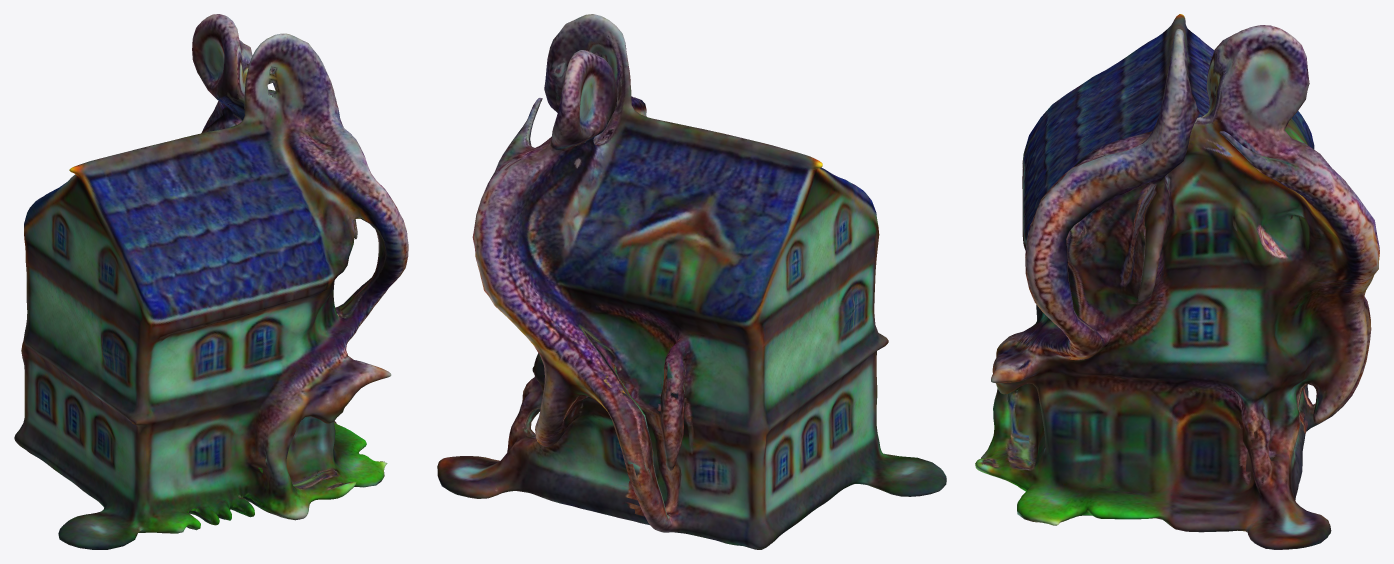
The model's file is db3620ee50dd_d1cdd01f8e5f_a_octopus_solarpunk.glb.
The picture shows the model from 3 angles, left to right: view 1: azimuth 30°, elevation 25°; view 2: azimuth 150°, elevation 25°; view 3: azimuth 270°, elevation 25°; orthographic projection. The views are drawn at different scales.
Visible parts, largest first — view 1: mesh; view 2: mesh; view 3: mesh.
Boxes of the visible parts, x1,y1,x2,y2 form: mesh: [14, 14, 408, 549]; mesh: [437, 14, 946, 549]; mesh: [975, 14, 1379, 549].
Size of the model in its own units: 0.9319 by 0.9937 by 0.778.
Materials: 1 (1 with a texture image).
